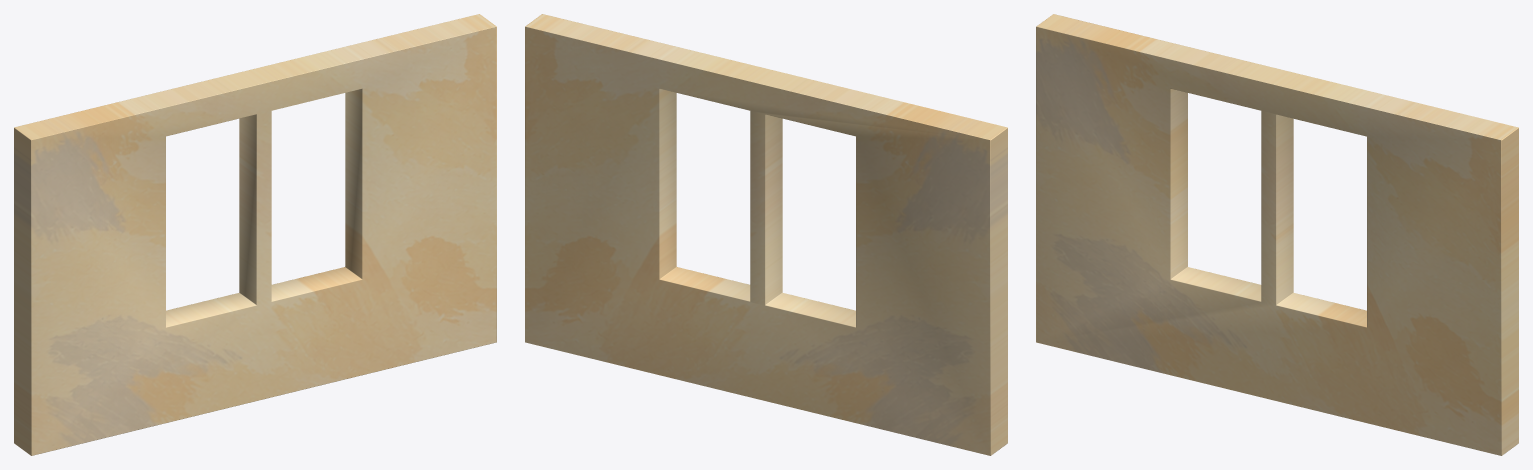
The model's file is CM_PairedWindowBay02_FacadeInfill_4p5m.fbx.
The picture shows the model from 3 angles, left to right: view 1: azimuth 30°, elevation 25°; view 2: azimuth 150°, elevation 25°; view 3: azimuth 330°, elevation 25°; orthographic projection.
Parts seen in each view (by area): view 1: CM_PairedWindowBay02_FacadeInfill_4p5m_Geometry; view 2: CM_PairedWindowBay02_FacadeInfill_4p5m_Geometry; view 3: CM_PairedWindowBay02_FacadeInfill_4p5m_Geometry.
Boxes of the visible parts, x1=… form: CM_PairedWindowBay02_FacadeInfill_4p5m_Geometry: x1=14, y1=14, x2=496, y2=455; CM_PairedWindowBay02_FacadeInfill_4p5m_Geometry: x1=525, y1=14, x2=1007, y2=455; CM_PairedWindowBay02_FacadeInfill_4p5m_Geometry: x1=1036, y1=14, x2=1518, y2=455.
Size of the model in its own units: 4.32 by 2.8 by 0.28.
